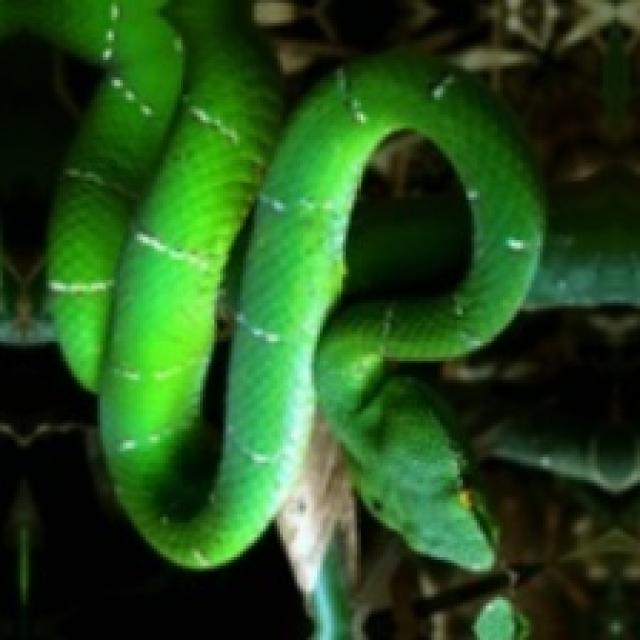north ph temple pitviper: (0, 0, 543, 566), (343, 129, 469, 286)
